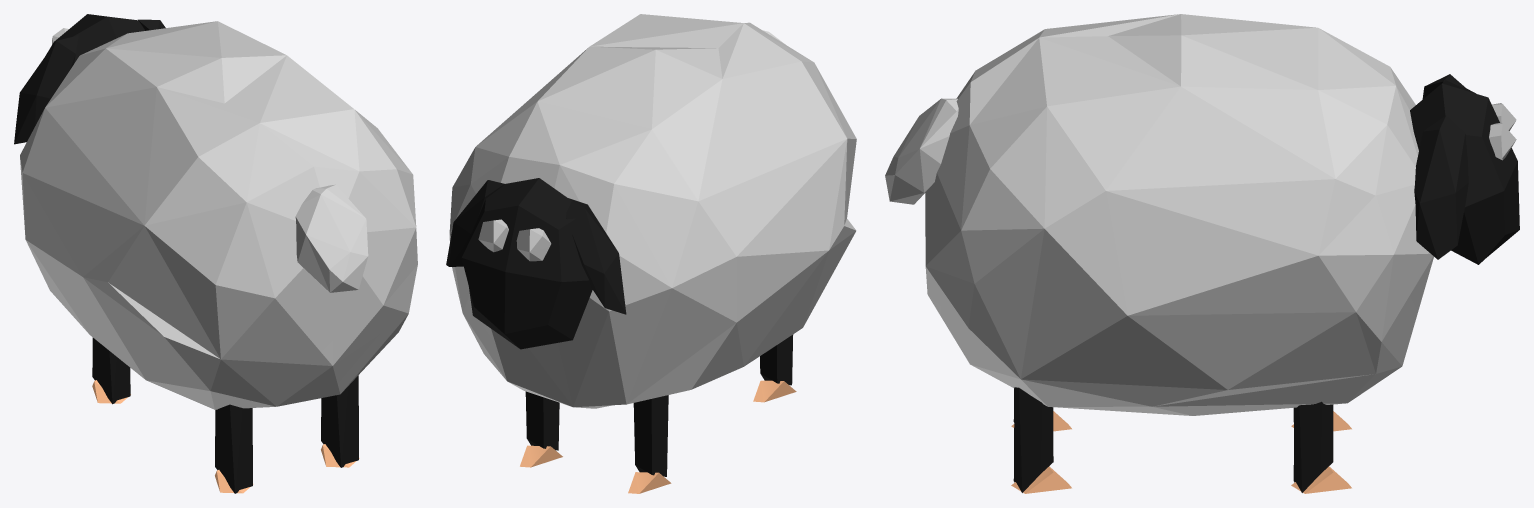
The model's file is sheep.obj.
3 views of the same model, side by side, from view 1: azimuth 30°, elevation 25°; view 2: azimuth 150°, elevation 25°; view 3: azimuth 270°, elevation 25° (orthographic). The views are drawn at different scales.
Visible parts, largest first — view 1: sheep_Mesh; view 2: sheep_Mesh; view 3: sheep_Mesh.
Part boxes in pixels (left/top/right/bottom): sheep_Mesh: left=14, top=14, right=417, bottom=493; sheep_Mesh: left=446, top=14, right=856, bottom=493; sheep_Mesh: left=885, top=14, right=1519, bottom=493.
Bounding box in the file's own units: 1.09 × 1.24 × 1.7.
